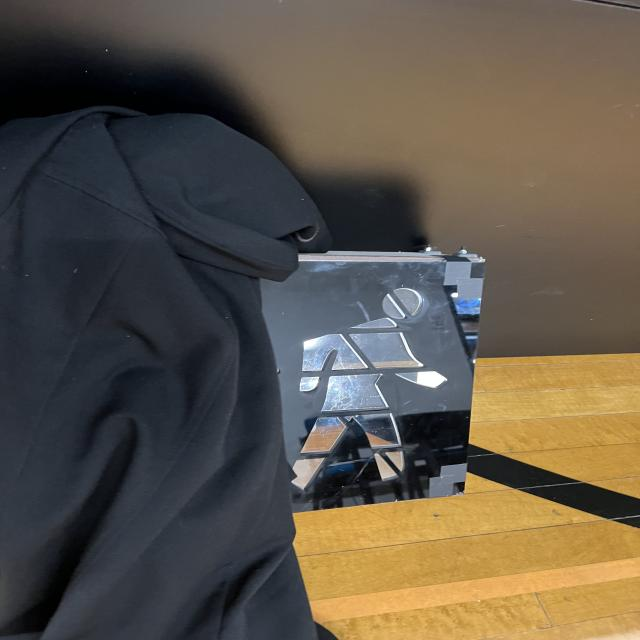go: (276, 259, 468, 497)
